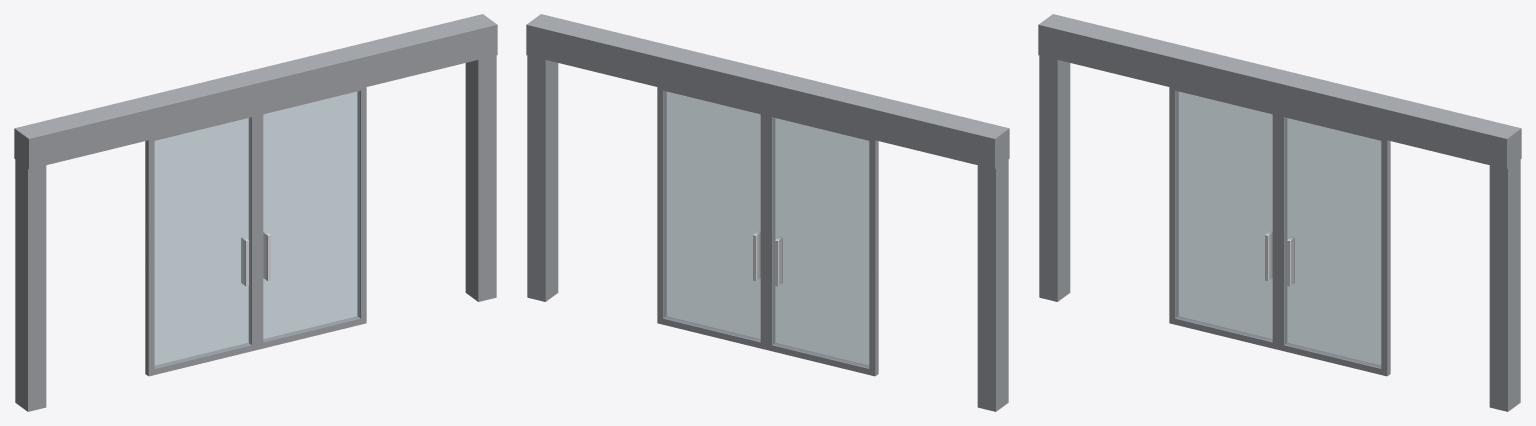
The model's file is sliding_door.glb.
3 views of the same model, side by side, from view 1: azimuth 30°, elevation 25°; view 2: azimuth 150°, elevation 25°; view 3: azimuth 330°, elevation 25° (orthographic).
Visible parts, largest first — view 1: Slide_Frame, Panel_R, Panel_L, Panel_R_Frame, Panel_L_Frame; view 2: Slide_Frame, Panel_R, Panel_L, Panel_R_Frame, Panel_L_Frame; view 3: Slide_Frame, Panel_L, Panel_R, Panel_L_Frame, Panel_R_Frame.
Boxes of the visible parts, left/top/right/bottom form: Slide_Frame: left=14, top=14, right=497, bottom=411; Panel_R: left=146, top=117, right=250, bottom=367; Panel_L: left=263, top=91, right=359, bottom=341; Panel_R_Frame: left=145, top=113, right=257, bottom=376; Panel_L_Frame: left=257, top=87, right=366, bottom=349; Slide_Frame: left=526, top=14, right=1009, bottom=411; Panel_R: left=773, top=117, right=877, bottom=367; Panel_L: left=664, top=91, right=760, bottom=341; Panel_R_Frame: left=766, top=113, right=878, bottom=376; Panel_L_Frame: left=657, top=87, right=766, bottom=349; Slide_Frame: left=1038, top=14, right=1521, bottom=411; Panel_L: left=1285, top=117, right=1389, bottom=367; Panel_R: left=1176, top=91, right=1272, bottom=341; Panel_L_Frame: left=1278, top=113, right=1390, bottom=376; Panel_R_Frame: left=1169, top=87, right=1278, bottom=349.
Size of the model in its own units: 6.45 by 3.6 by 0.35.
